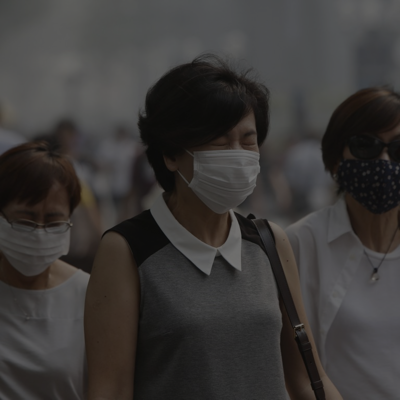with_mask: (176, 128, 261, 210), (0, 205, 69, 277), (341, 132, 399, 215)
